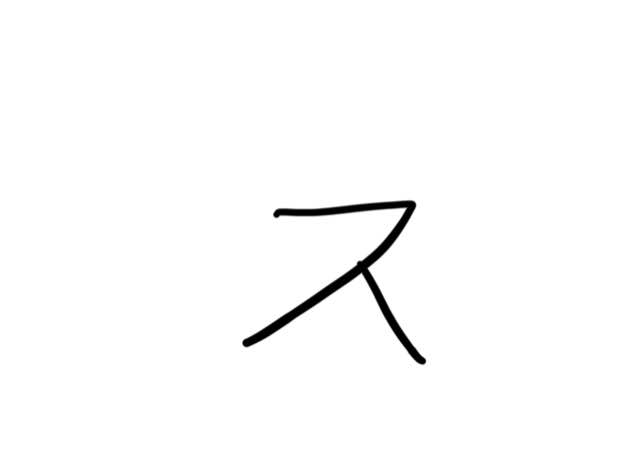su: (226, 189, 448, 370)
